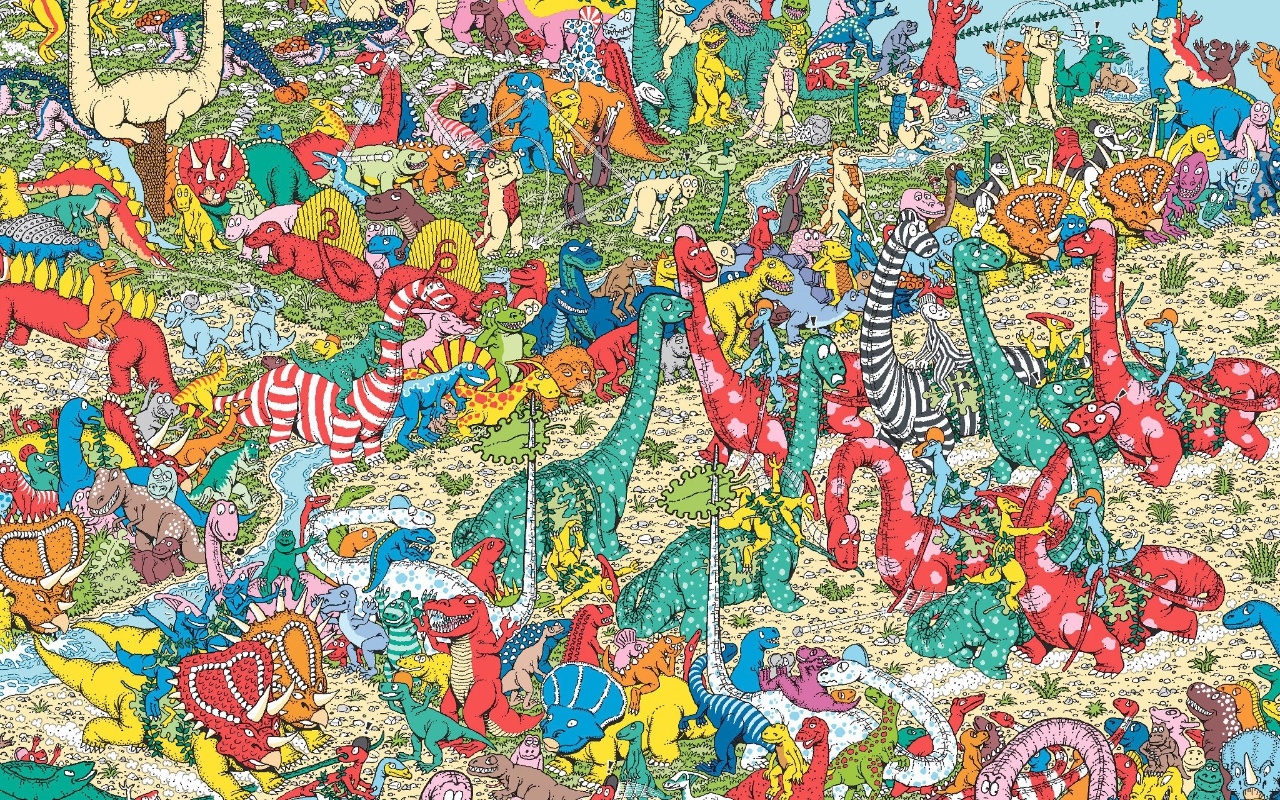waldo: (929, 173, 943, 196)
